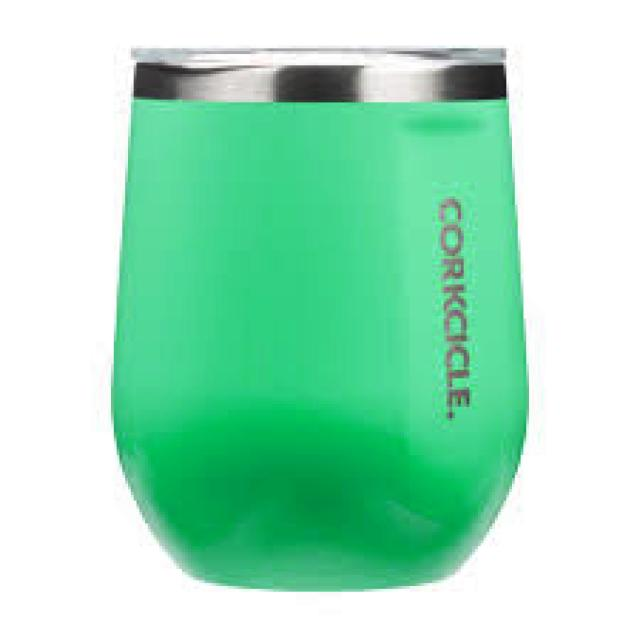bottle: (106, 47, 532, 589)
